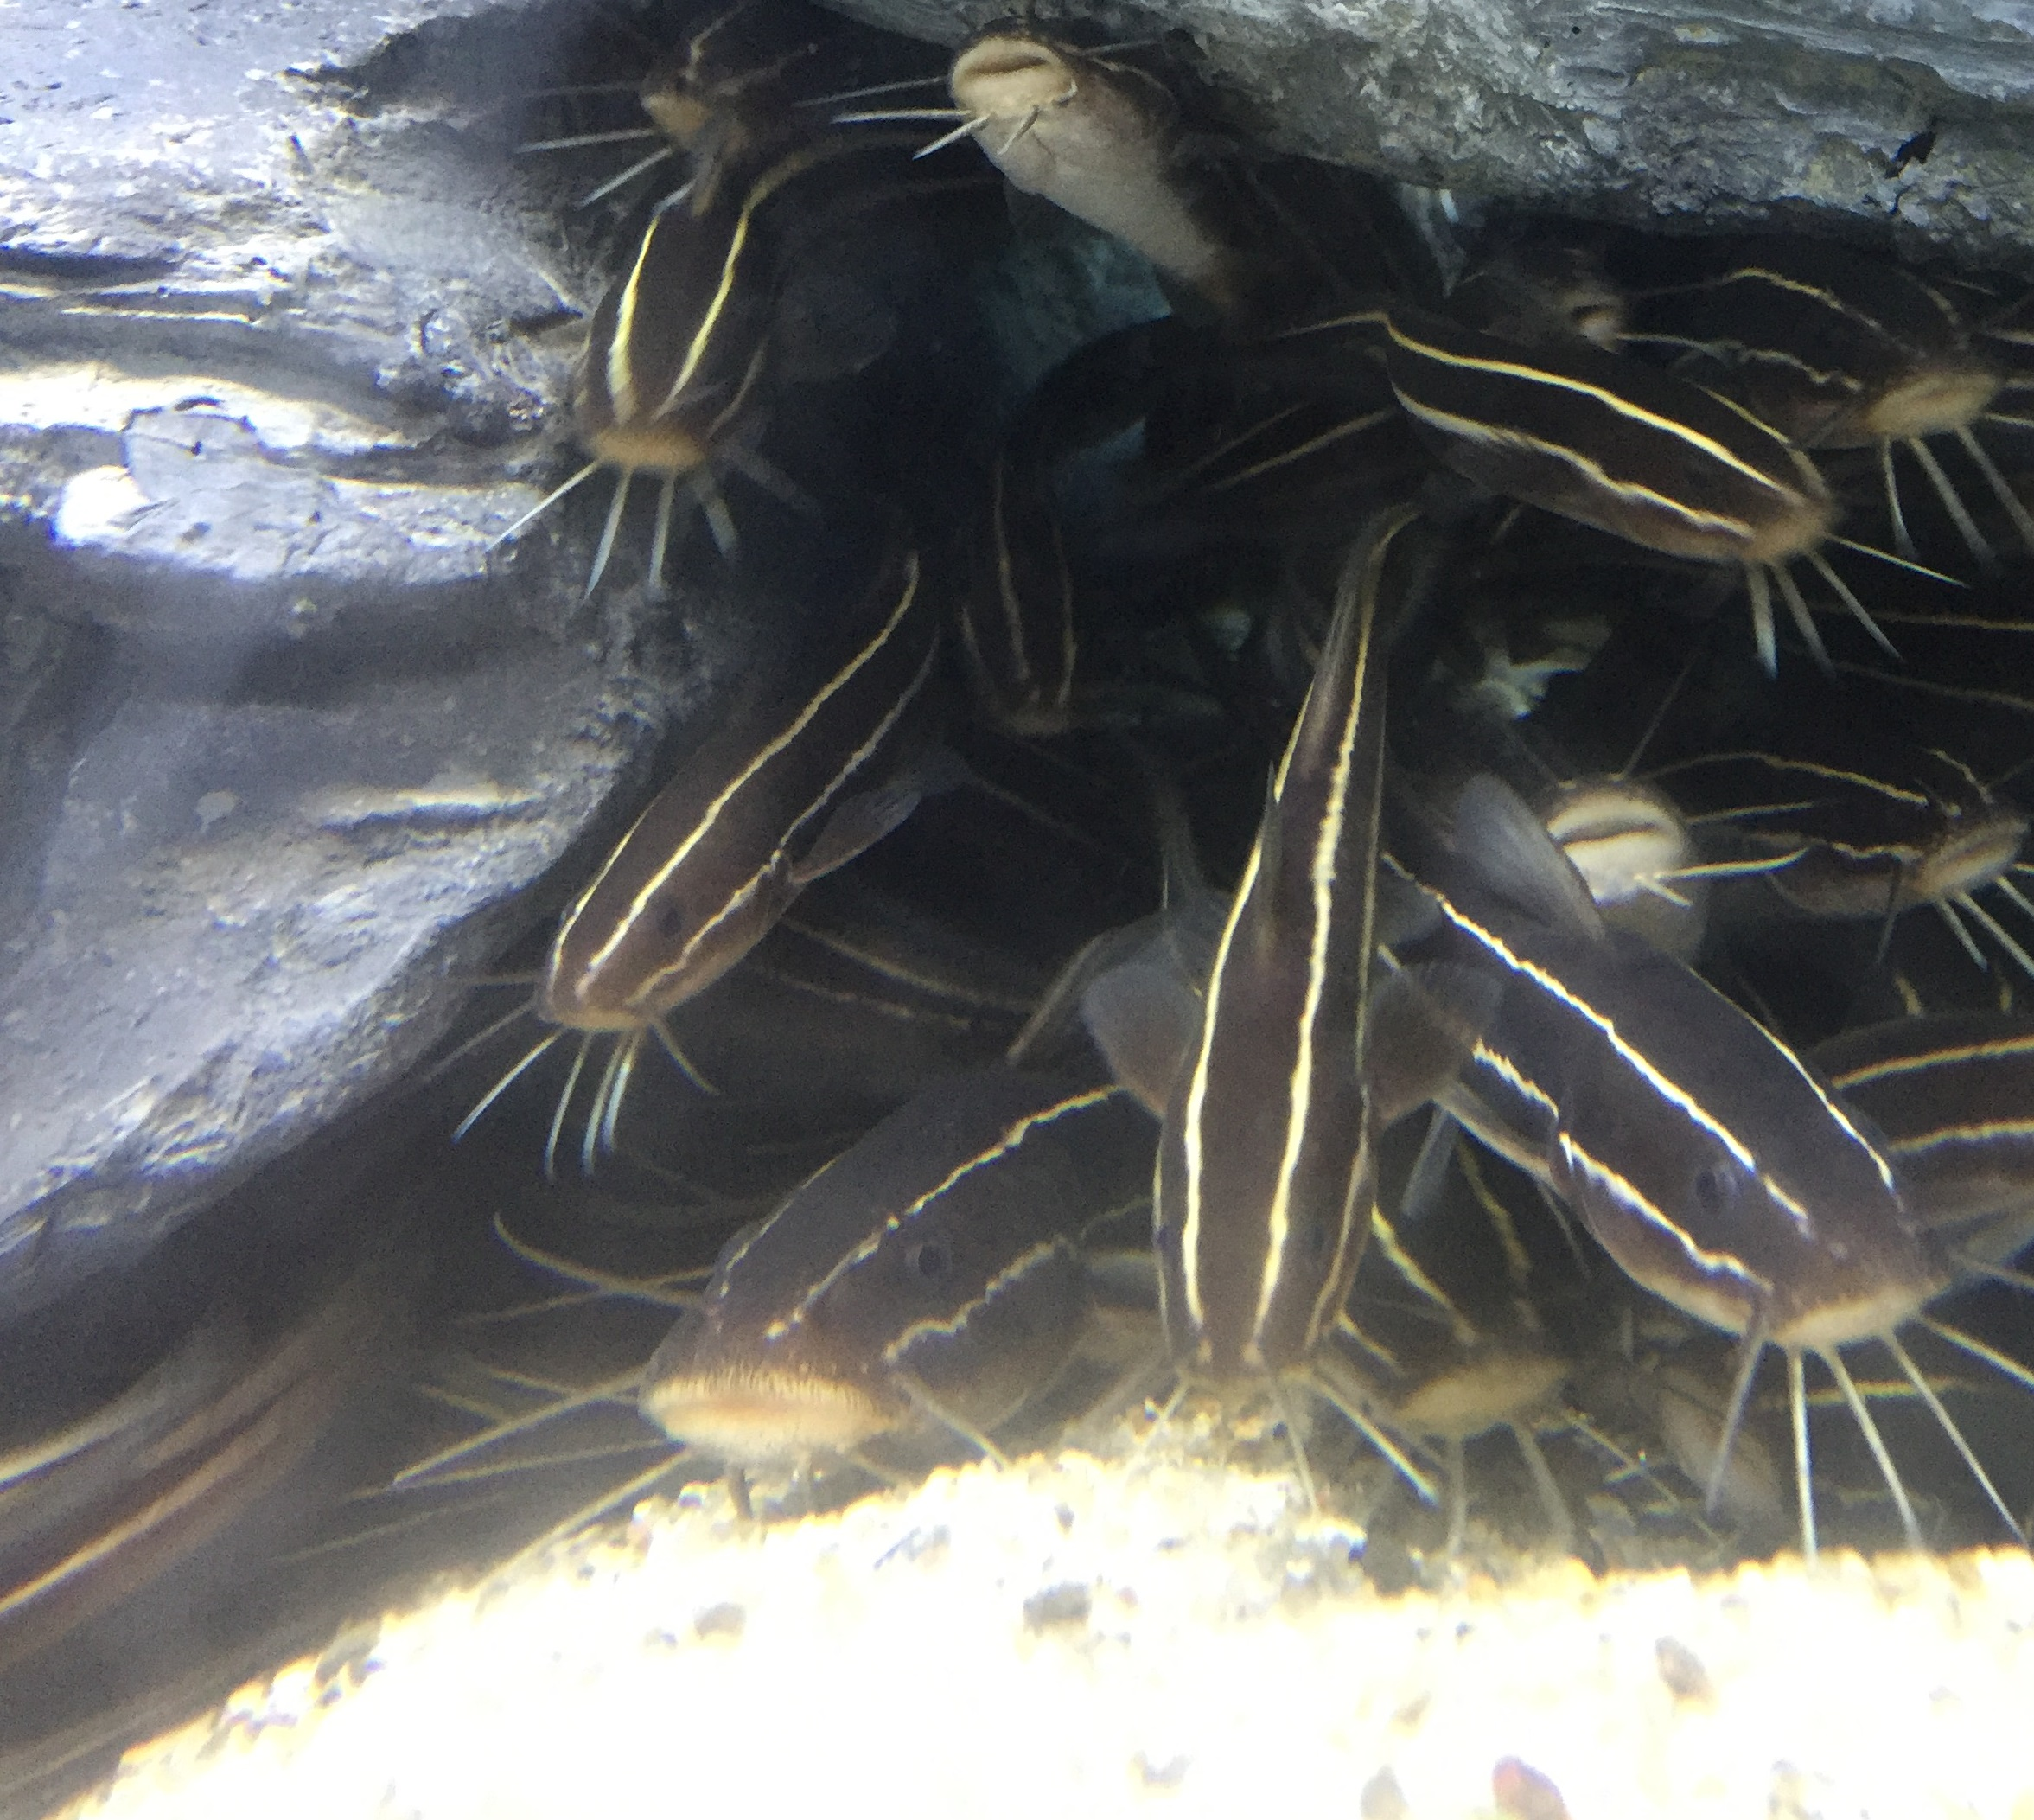gonzui: (1170, 476, 1456, 1418)
